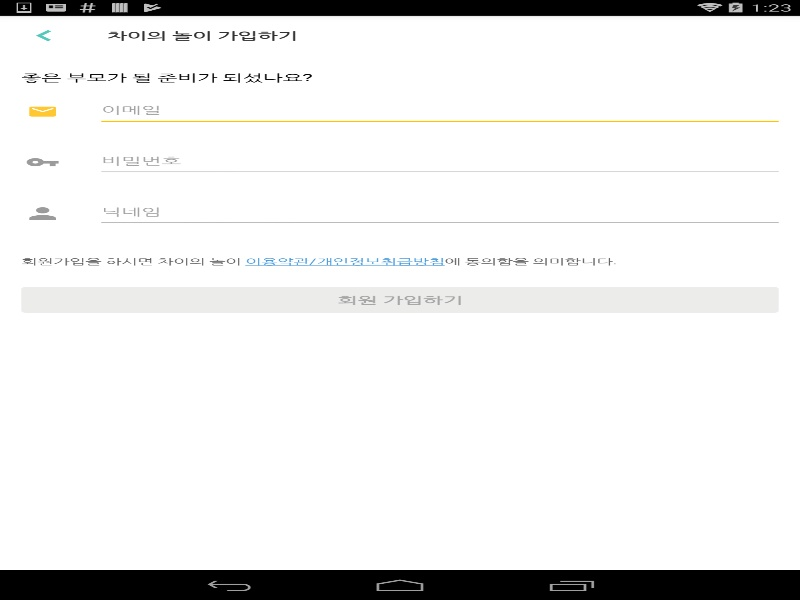Button: (21, 286, 778, 312), (8, 15, 82, 55)
